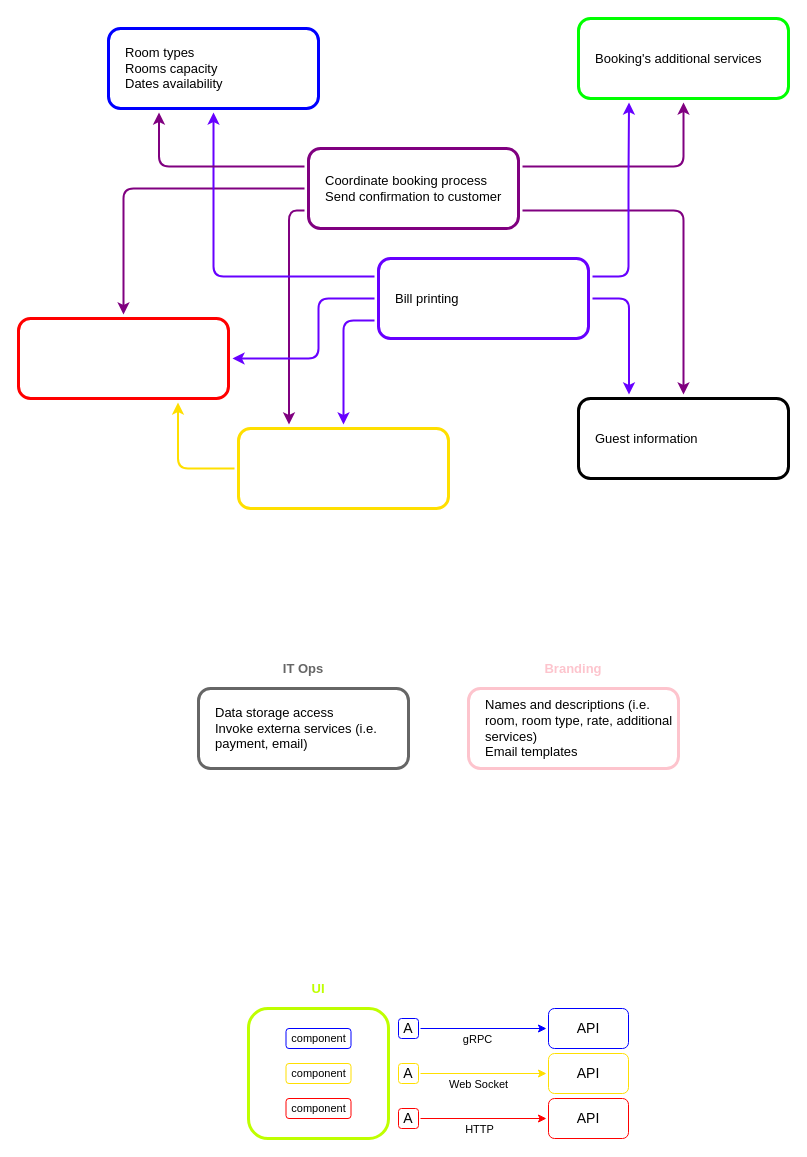
This 807x1157 diagram has some shape labels left out. Here are the shapes that lost their labels. From the top down, the centre of each, then its label:
At pixel 123 358: "Room prices Rates catalog Cancellation fees".
At pixel 343 468: "Payment methods Payments".
